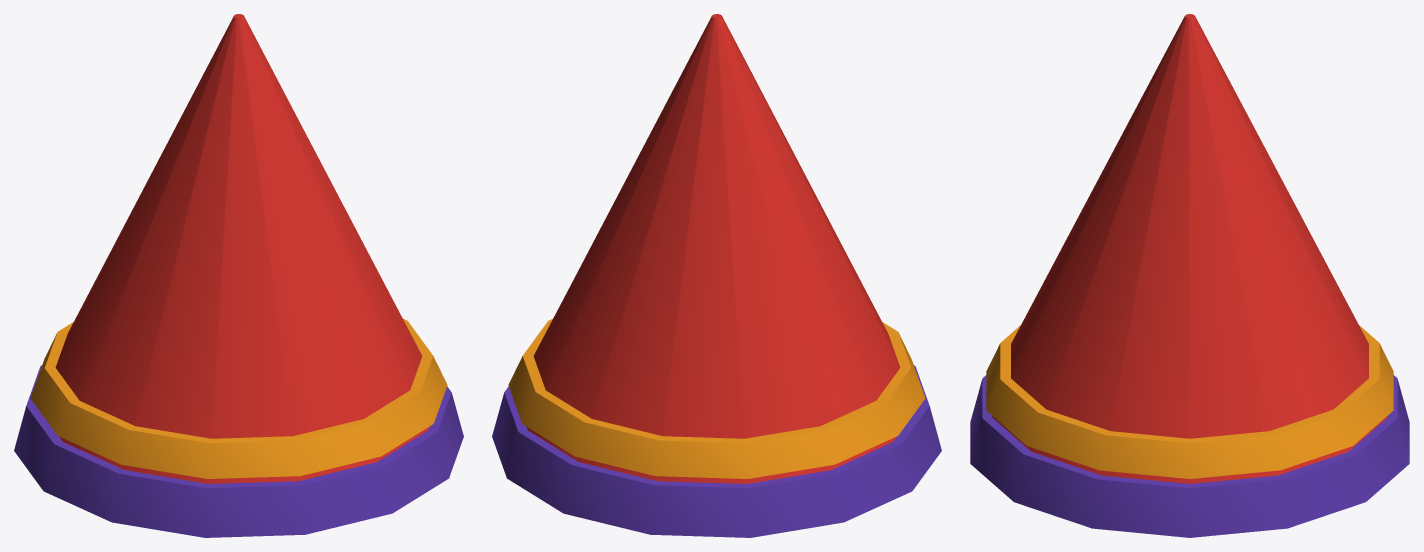
Rendered from Hat.glb.
3 renders of one model, left to right at view 1: azimuth 30°, elevation 25°; view 2: azimuth 150°, elevation 25°; view 3: azimuth 270°, elevation 25°, orthographic.
Parts seen in each view (by area): view 1: hat_point, hat_brim, hat_trim; view 2: hat_point, hat_brim, hat_trim; view 3: hat_point, hat_brim, hat_trim.
Boxes of the visible parts, <box> form: hat_point: <box>55,14,429,483</box>; hat_brim: <box>14,365,463,537</box>; hat_trim: <box>30,318,447,478</box>; hat_point: <box>526,14,900,483</box>; hat_brim: <box>492,365,941,537</box>; hat_trim: <box>508,318,925,478</box>; hat_point: <box>992,14,1387,483</box>; hat_brim: <box>970,375,1409,537</box>; hat_trim: <box>986,325,1393,478</box>.
Bounding box in the file's own units: 2.2 × 2.3 × 2.14.
